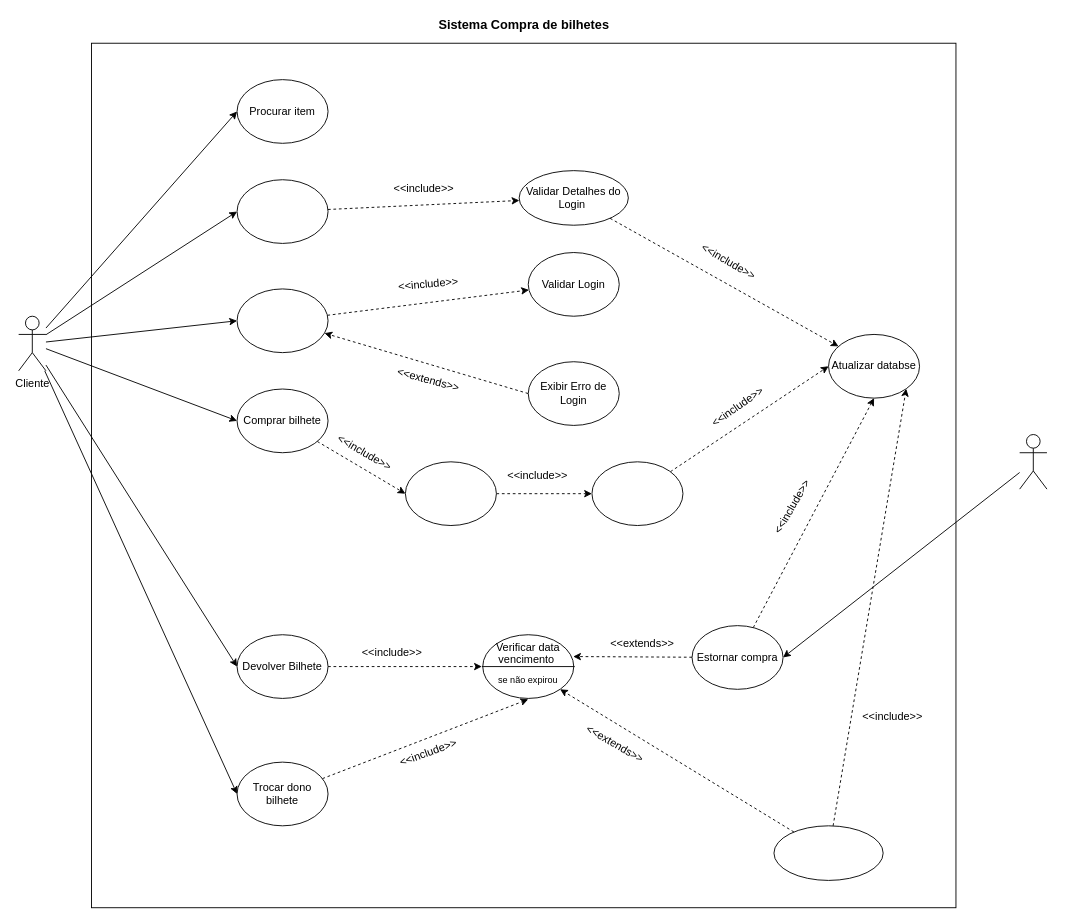
The diagram is 1068 pixels wide and 924 high, and some of its shapes have lost their labels. Each missing label, with the centre of its shape:
"Fazer Cadastro" goes at pixel 282 211.
"Fazer Login" goes at pixel 282 320.
"Fazer pagamento" goes at pixel 450 493.
"Reservar bilhete" goes at pixel 637 493.
"Sistema" goes at pixel 1033 461.
"Validar novos dados" goes at pixel 828 852.
